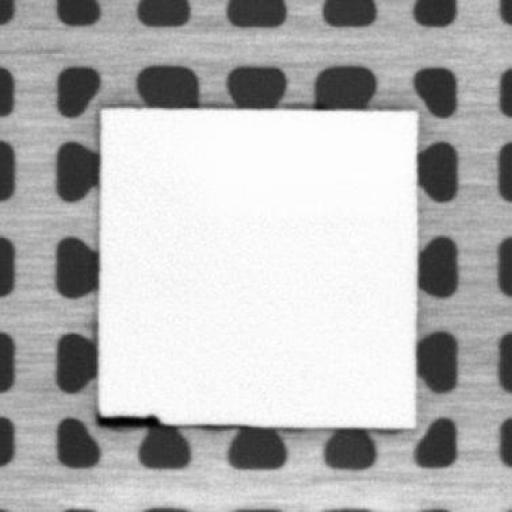DIE_BROKEN: (92, 409, 163, 427)
